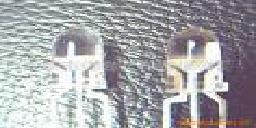LED: (160, 28, 233, 116), (49, 26, 110, 128)
